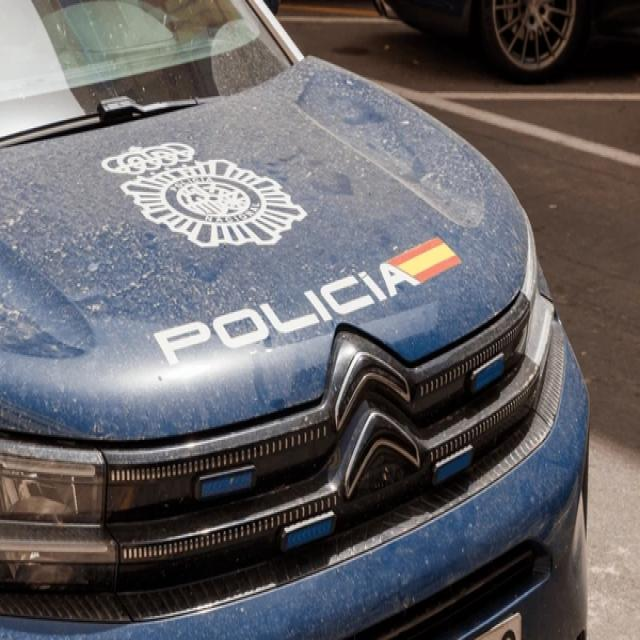citroen: (331, 342, 419, 501)
